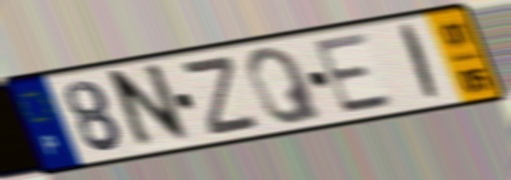8: (64, 78, 124, 155)
E: (310, 29, 400, 118)
I: (398, 21, 443, 106)
N: (107, 59, 194, 155)
Q: (243, 44, 328, 127)
Z: (179, 52, 264, 139)
